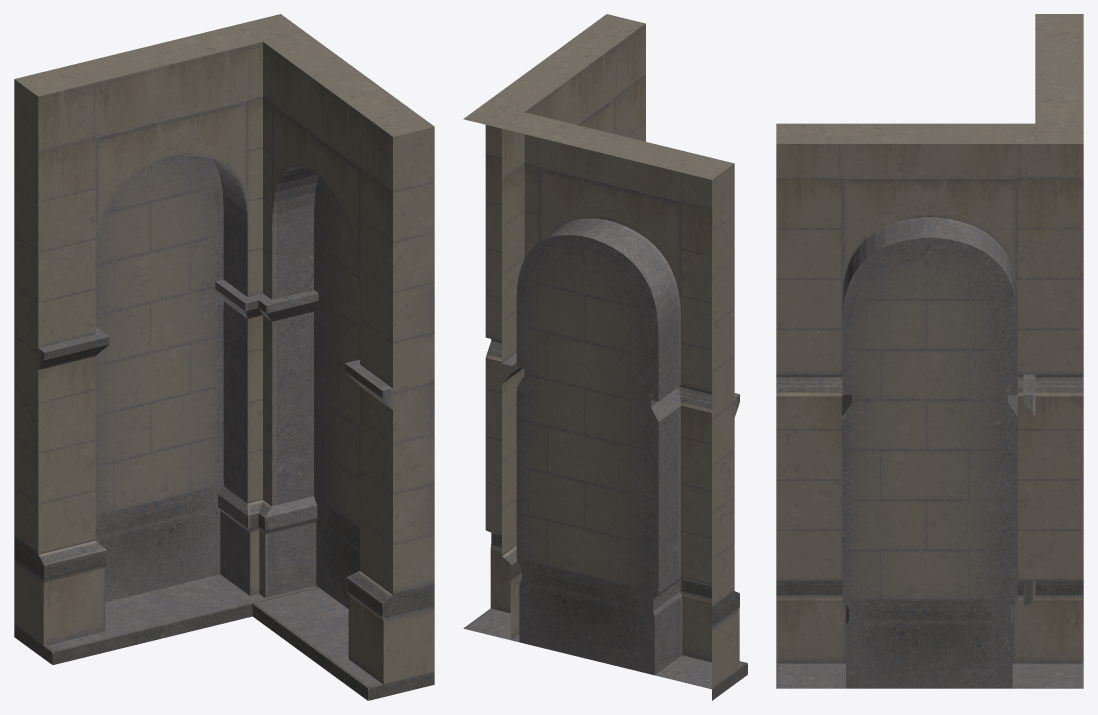
The model's file is SM_Wall03Corner.FBX.
3 renders of one model, left to right at view 1: azimuth 30°, elevation 25°; view 2: azimuth 150°, elevation 25°; view 3: azimuth 270°, elevation 25°, orthographic. The views are drawn at different scales.
Parts seen in each view (by area): view 1: SM_Wall03Corner; view 2: SM_Wall03Corner; view 3: SM_Wall03Corner.
Part boxes in pixels (x1,y1,x2,y2): SM_Wall03Corner: [14, 14, 434, 700]; SM_Wall03Corner: [463, 14, 747, 700]; SM_Wall03Corner: [776, 14, 1083, 688].
Bounding box in the file's own units: 400 × 400 × 800.
